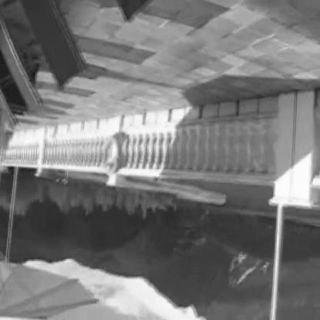other: (70, 120, 150, 173)
